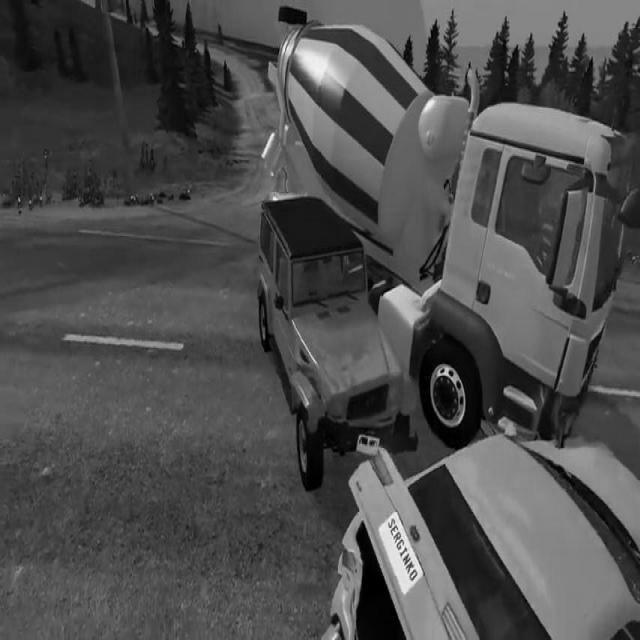accident: (258, 0, 640, 480)
vehicle: (247, 194, 414, 486)
